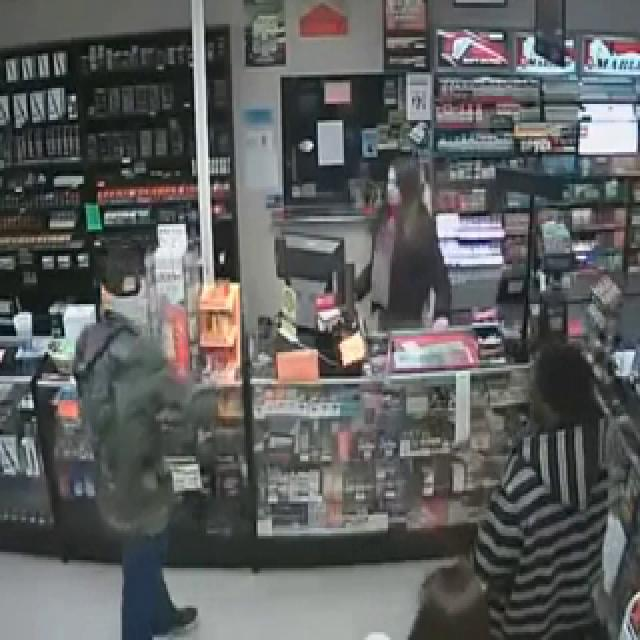robbery: (73, 97, 624, 640)
